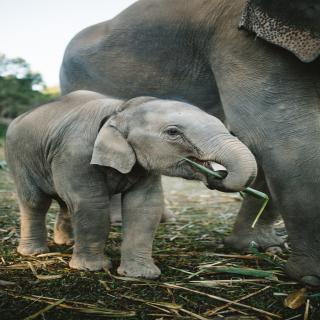Elephant: (2, 88, 273, 282)
